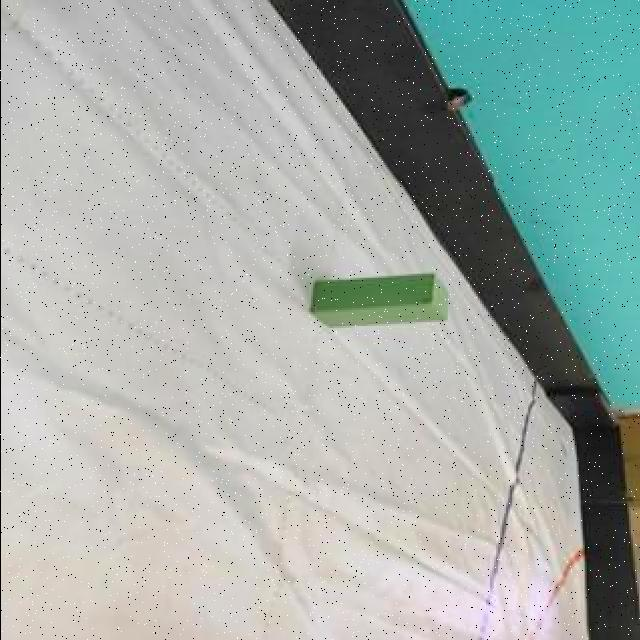greenbox: (306, 274, 449, 326)
